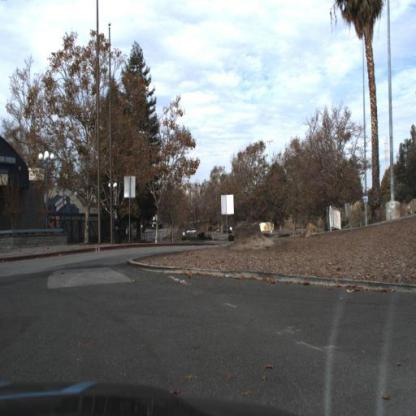car: (188, 229, 198, 236)
truck: (153, 214, 164, 231)
